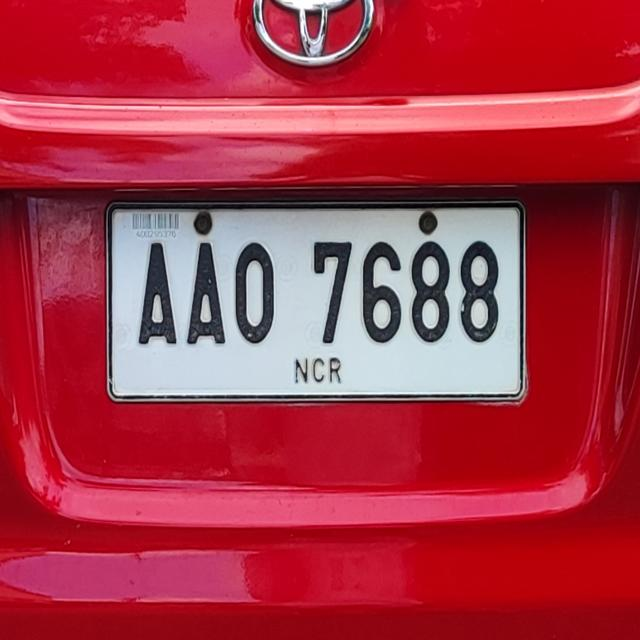plate: (103, 198, 529, 406)
